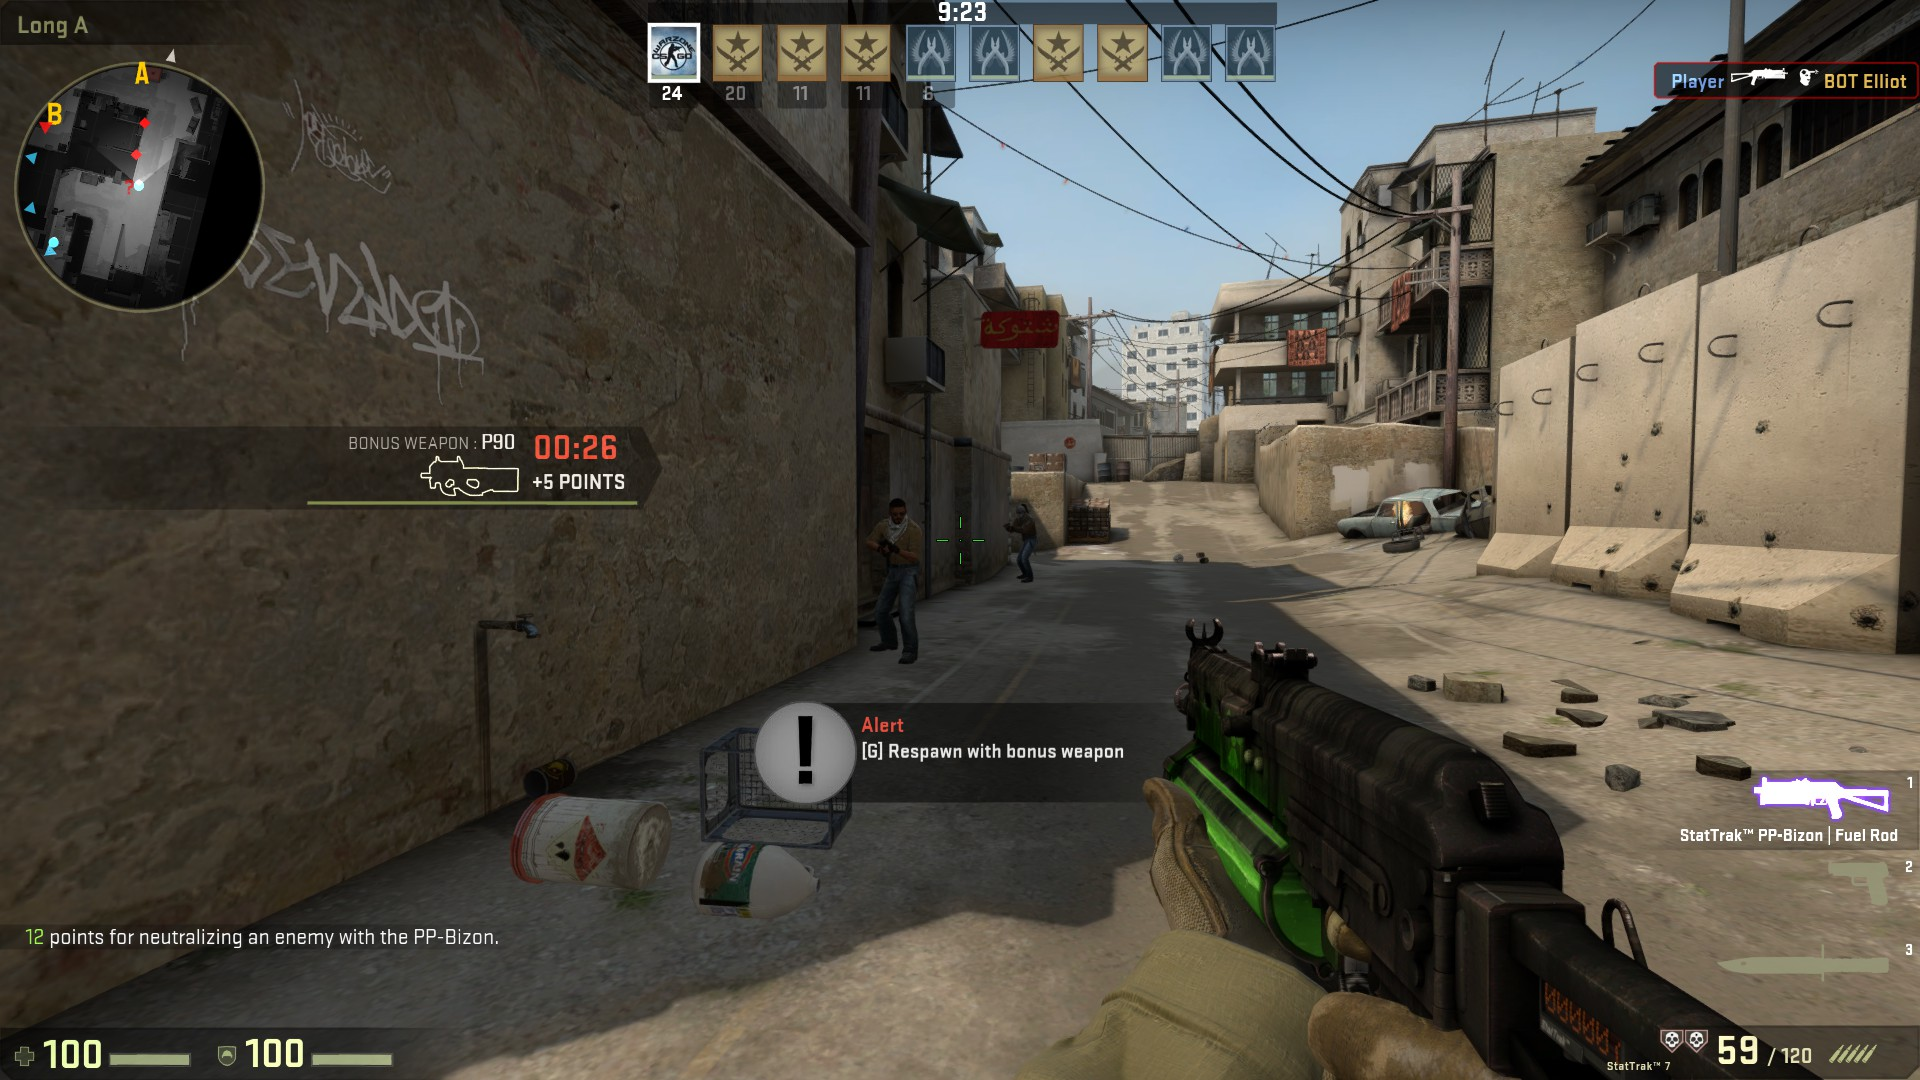t: (866, 495, 923, 662), (1006, 506, 1043, 583)
th: (882, 496, 914, 530), (1014, 504, 1029, 524)
